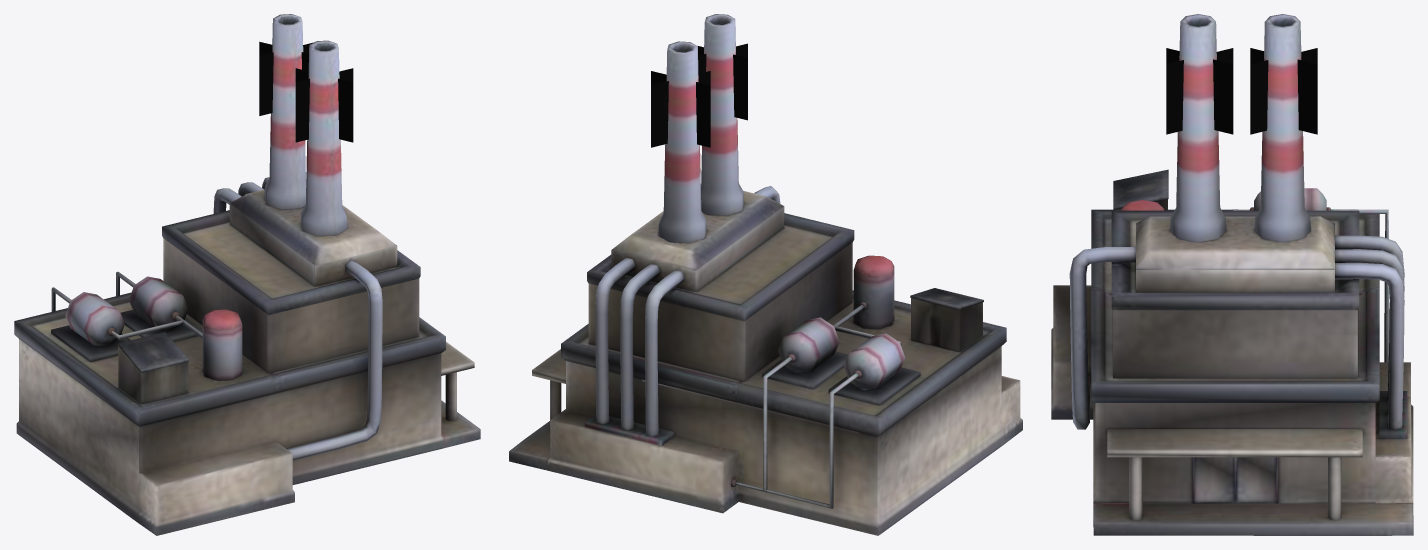
The model's file is Factory.glb.
3 views of the same model, side by side, from view 1: azimuth 30°, elevation 25°; view 2: azimuth 150°, elevation 25°; view 3: azimuth 270°, elevation 25° (orthographic). The views are drawn at different scales.
Visible parts, largest first — view 1: 4, Plane.002, Plane.003; view 2: 4, Plane.003, Plane.002; view 3: 4, Plane.003, Plane.002.
Part boxes in pixels (x1=…): 4: x1=14, y1=14, x2=480, y2=535; Plane.002: x1=295, y1=68, x2=353, y2=142; Plane.003: x1=259, y1=41, x2=313, y2=115; 4: x1=509, y1=14, x2=1022, y2=535; Plane.003: x1=651, y1=71, x2=710, y2=147; Plane.002: x1=698, y1=43, x2=747, y2=120; 4: x1=1051, y1=14, x2=1413, y2=535; Plane.003: x1=1250, y1=48, x2=1317, y2=134; Plane.002: x1=1166, y1=48, x2=1233, y2=134.
Bounding box in the file's own units: 3.31 × 3.55 × 2.59.
2 materials, 2 textured.
